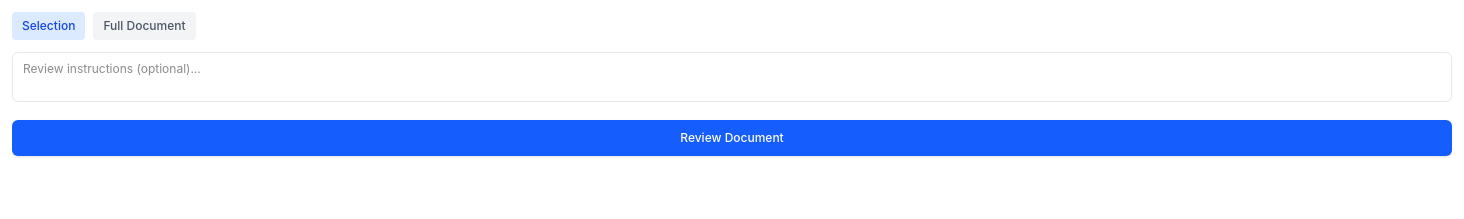
ReviewPanel — free-tier review › shows error when text too short (Office not ready)
The width and height of the screenshot is (1464, 219).
Click the button "Review Document" at (732, 138), box [12,120,1452,156]
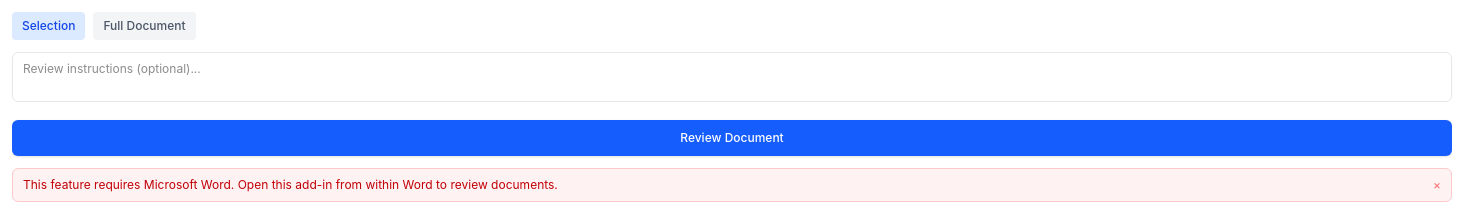
Result: the text "requires Microsoft Word" is shown at [23,176,558,192]
